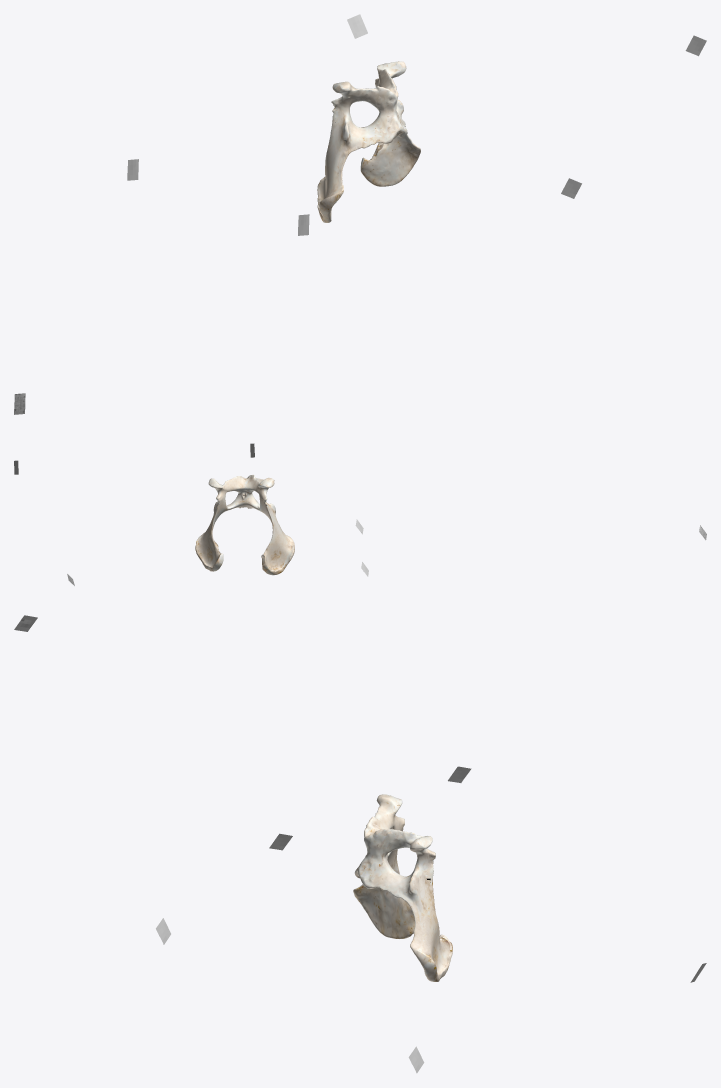
The model's file is sacred-bone-1.glb.
The picture shows the model from 3 angles, top to bottom: view 1: azimuth 30°, elevation 25°; view 2: azimuth 150°, elevation 25°; view 3: azimuth 270°, elevation 25°; orthographic projection. The views are drawn at different scales.
Parts seen in each view (by area): view 1: sacrum-bon; view 2: sacrum-bon; view 3: sacrum-bon.
Boxes of the visible parts, <box> form: sacrum-bon: <box>317,61,420,222</box>; sacrum-bon: <box>195,475,294,575</box>; sacrum-bon: <box>353,794,452,981</box>.
Bounding box in the file's own units: 32.04 × 4.83 × 20.2.
Materials: 4 (2 with a texture image).
